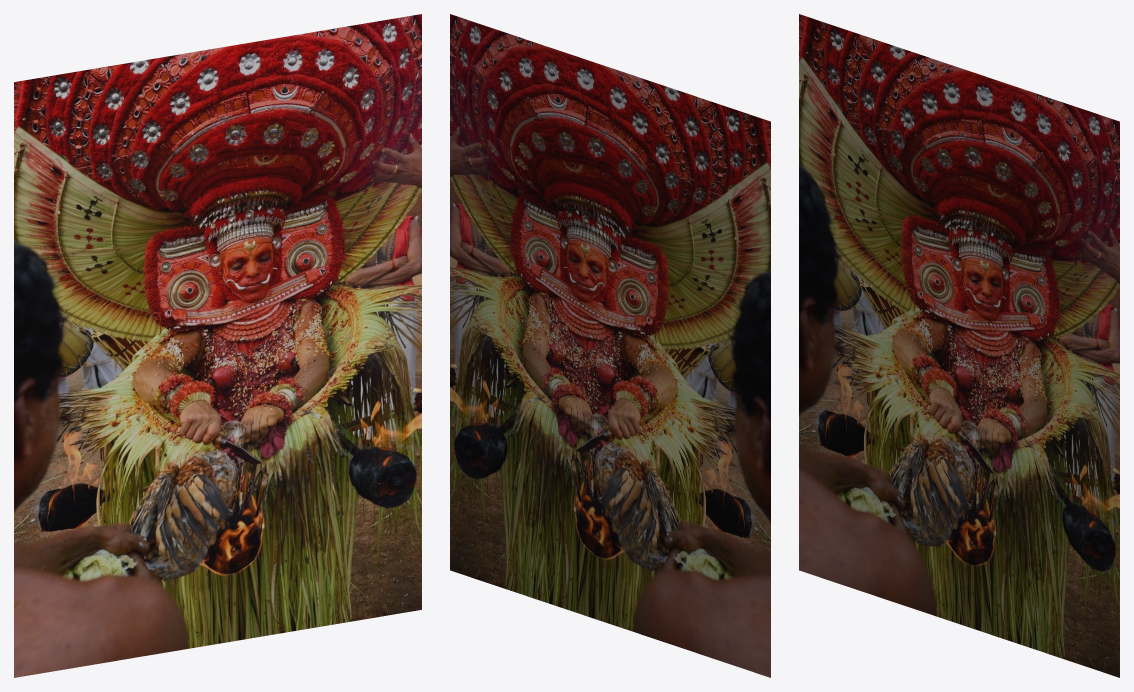
3 renders of one model, left to right at view 1: azimuth 30°, elevation 25°; view 2: azimuth 150°, elevation 25°; view 3: azimuth 330°, elevation 25°, orthographic. The views are drawn at different scales.
Parts seen in each view (by area): view 1: 7; view 2: 7; view 3: 7.
Boxes of the visible parts, box(x1,y1,x2,y2) form: 7: box(14, 14, 421, 677); 7: box(450, 14, 770, 677); 7: box(799, 14, 1119, 677).
Size of the model in its own units: 1.51 by 2.28 by 0.2233.
1 material, 1 textured.
